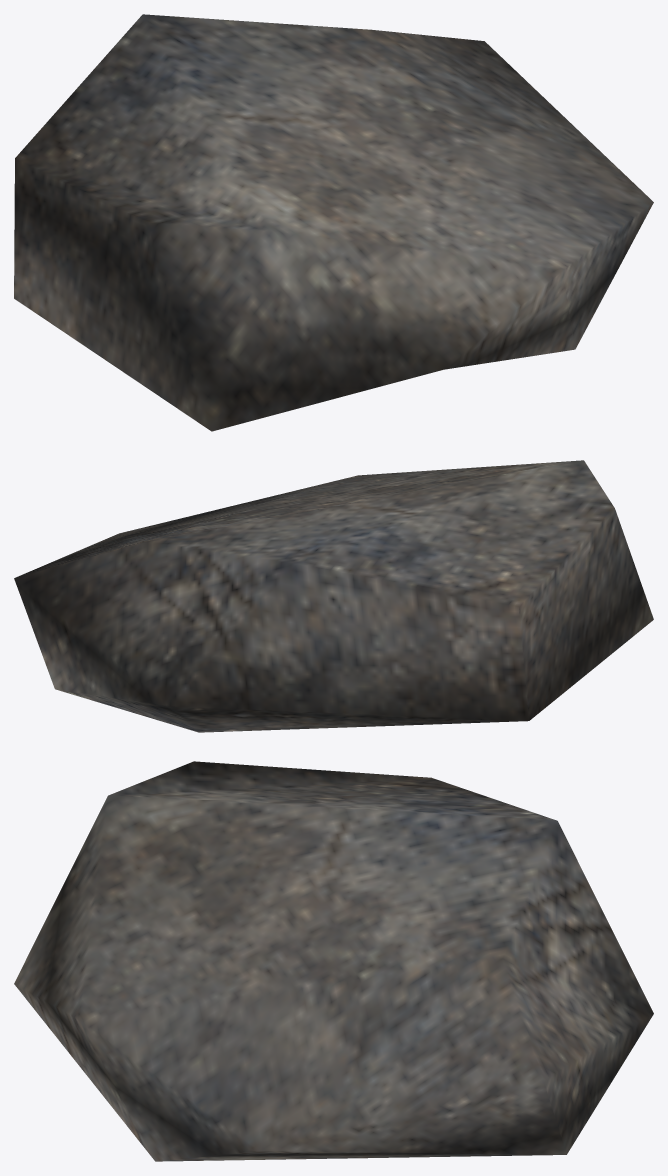
File: RockSm1_3_LOD1.fbx
The picture shows the model from 3 angles, top to bottom: view 1: azimuth 30°, elevation 25°; view 2: azimuth 150°, elevation 25°; view 3: azimuth 270°, elevation 25°; orthographic projection. The views are drawn at different scales.
Parts seen in each view (by area): view 1: polySurface217; view 2: polySurface217; view 3: polySurface217.
Part boxes in pixels (bbox=[...]): polySurface217: bbox=[14, 14, 653, 431]; polySurface217: bbox=[14, 460, 653, 732]; polySurface217: bbox=[14, 761, 653, 1161].
Size of the model in its own units: 48.68 by 20.1 by 49.69.
